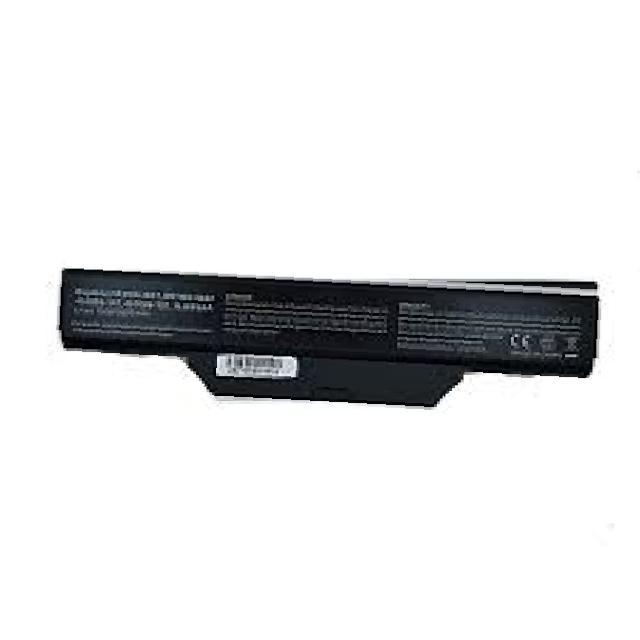Battery: (45, 260, 610, 414)
